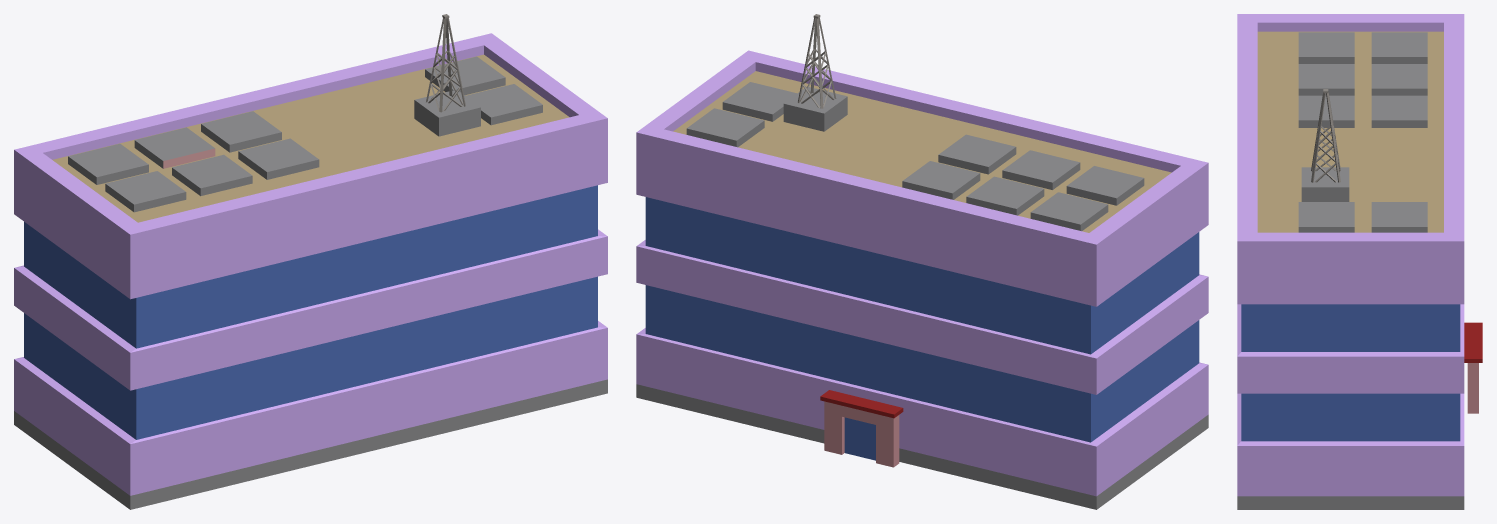
The model's file is Target_Building_6.fbx.
3 renders of one model, left to right at view 1: azimuth 30°, elevation 25°; view 2: azimuth 150°, elevation 25°; view 3: azimuth 270°, elevation 25°, orthographic. The views are drawn at different scales.
Visible parts, largest first — view 1: Building_6; view 2: Building_6; view 3: Building_6.
Part boxes in pixels (x1,y1,x2,y2): Building_6: [14, 14, 607, 509]; Building_6: [636, 14, 1208, 509]; Building_6: [1237, 14, 1482, 509].
Bounding box in the file's own units: 2727 × 2037 × 1242.
